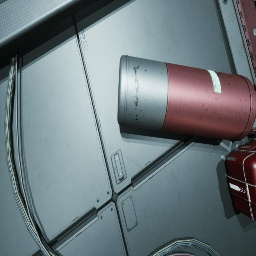FirstAidBox ,: (226, 140, 256, 222)
NitrogenTank ,: (117, 55, 256, 141)
